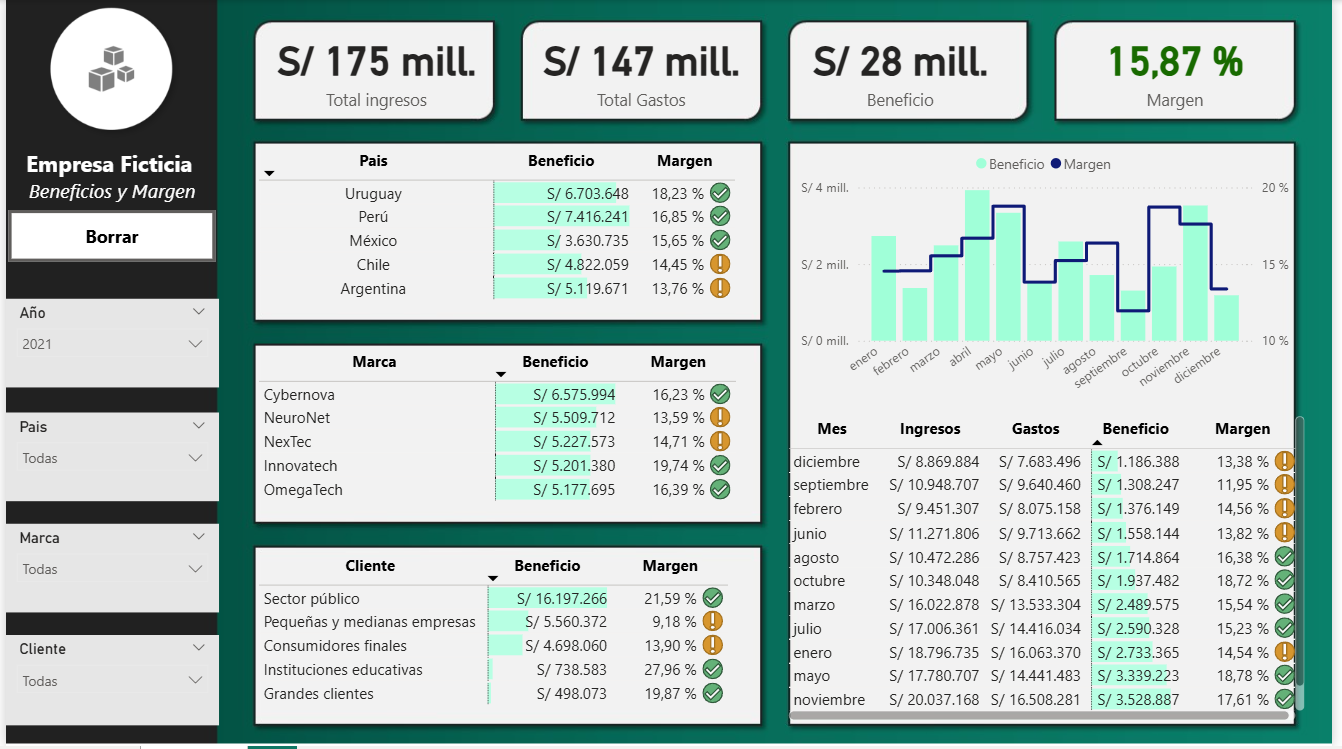

The dashboard page shown, as its layout file describes it:
{"tool":"powerbi","page":{"name":"Página 1","canvas":[1280,720],"ordinal":0},"visuals":[{"type":"card","fields":{"Values":["Medidas.Total ingresos"]},"box":[256.8,20.7,201.6,91.1],"z":0},{"type":"card","fields":{"Values":["Medidas.Total Gastos"]},"box":[507.5,20.8,210.7,91.5],"z":1000},{"type":"tableEx","fields":{"Values":["Consolidado.Pais","Medidas.Beneficio","Medidas.Margen"]},"box":[237.4,138.1,491.5,172.6],"z":2000},{"type":"card","fields":{"Values":["Medidas.Margen"]},"box":[1020.2,20.7,215.4,91.1],"z":3000},{"type":"actionButton","box":[2.8,206.6,99.8,40.2],"z":4000},{"type":"card","fields":{"Values":["Medidas.Beneficio"]},"box":[762,20.7,201.6,91.1],"z":5000},{"type":"tableEx","fields":{"Values":["Consolidado.Marca","Medidas.Beneficio","Medidas.Margen"]},"box":[237.4,331.3,510.8,172.6],"z":6000},{"type":"tableEx","fields":{"Values":["Consolidado.Cliente","Medidas.Beneficio","Medidas.Margen"]},"box":[237.4,528.7,510.8,172.6],"z":7000},{"type":"tableEx","fields":{"Values":["Consolidado.Fecha.Variación.Jerarquía de fechas.Mes","Medidas.Total ingresos","Medidas.Total Gastos","Medidas.Beneficio","Medidas.Margen"]},"box":[749.1,397.5,509.3,303.1],"z":8000},{"type":"image","box":[2.8,0,205.2,140],"z":9000},{"type":"textbox","box":[0,137.3,205.2,65.2],"z":10000},{"type":"slicer","fields":{"Values":["Consolidado.Fecha.Variación.Jerarquía de fechas.Año"]},"box":[0,288.4,205.2,86],"z":11000},{"type":"slicer","fields":{"Values":["Consolidado.Pais"]},"box":[0,397.9,205.2,86],"z":12000},{"type":"slicer","fields":{"Values":["Consolidado.Marca"]},"box":[0,506.1,205.2,86],"z":13000},{"type":"slicer","fields":{"Values":["Consolidado.Cliente"]},"box":[0,612.8,205.2,87.3],"z":14000},{"type":"lineStackedColumnComboChart","fields":{"Category":["Consolidado.Fecha.Variación.Jerarquía de fechas.Mes"],"Y":["Medidas.Beneficio"],"Y2":["Medidas.Margen"]},"box":[762.1,137.7,482,260.2],"z":15000},{"type":"actionButton","box":[2.8,202.4,199.7,49.9],"z":16000}]}

Visuals, with their boxes in screenshot pixels (x1, y1, x2, y2), scaled from the page's 1280x720 canvas onto the 1342x749 screenshot:
card - Medidas.Total ingresos: (x1=269, y1=22, x2=481, y2=116)
card - Medidas.Total Gastos: (x1=532, y1=22, x2=753, y2=117)
tableEx - Consolidado.Pais x Medidas.Beneficio: (x1=249, y1=144, x2=764, y2=323)
card - Medidas.Margen: (x1=1070, y1=22, x2=1295, y2=116)
actionButton: (x1=3, y1=215, x2=108, y2=257)
card - Medidas.Beneficio: (x1=799, y1=22, x2=1010, y2=116)
tableEx - Consolidado.Marca x Medidas.Beneficio: (x1=249, y1=345, x2=784, y2=524)
tableEx - Consolidado.Cliente x Medidas.Beneficio: (x1=249, y1=550, x2=784, y2=730)
tableEx - Consolidado.Fecha.Variación.Jerarquía de fechas.Mes x Medidas.Total ingresos: (x1=785, y1=414, x2=1319, y2=729)
image: (x1=3, y1=0, x2=218, y2=146)
textbox: (x1=0, y1=143, x2=215, y2=211)
slicer - Consolidado.Fecha.Variación.Jerarquía de fechas.Año: (x1=0, y1=300, x2=215, y2=389)
slicer - Consolidado.Pais: (x1=0, y1=414, x2=215, y2=503)
slicer - Consolidado.Marca: (x1=0, y1=526, x2=215, y2=616)
slicer - Consolidado.Cliente: (x1=0, y1=637, x2=215, y2=728)
lineStackedColumnComboChart - Consolidado.Fecha.Variación.Jerarquía de fechas.Mes x Medidas.Beneficio: (x1=799, y1=143, x2=1304, y2=414)
actionButton: (x1=3, y1=211, x2=212, y2=262)
